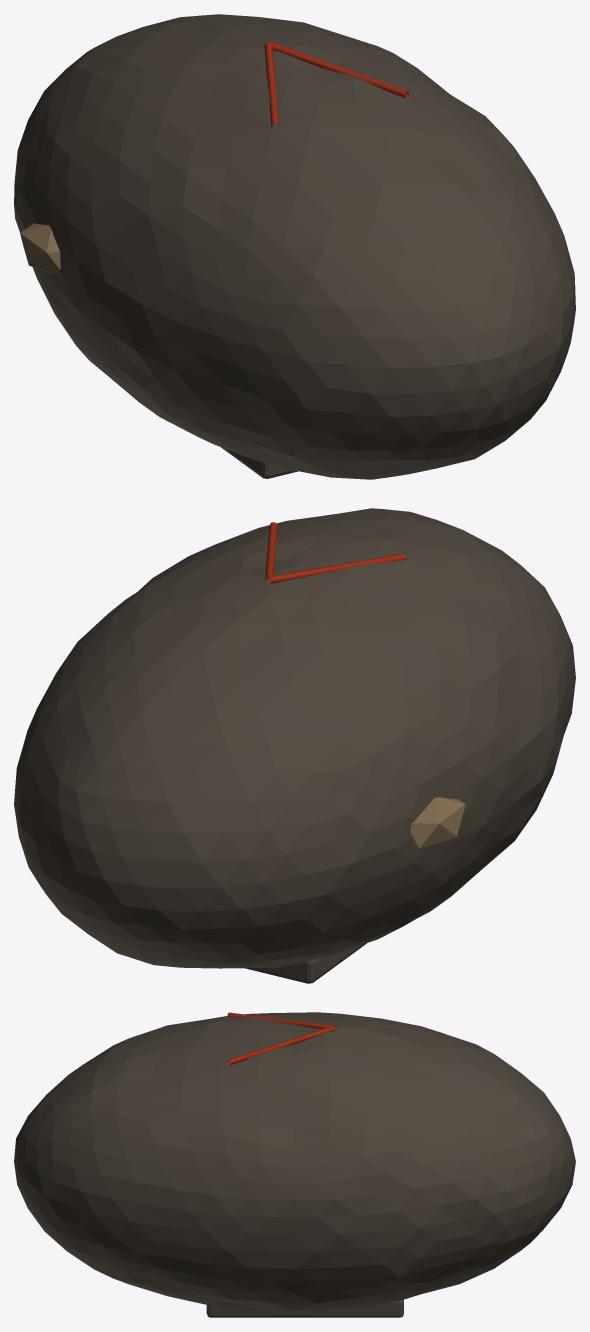
The model's file is sling_stone_LOD0.glb.
The picture shows the model from 3 angles, top to bottom: view 1: azimuth 30°, elevation 25°; view 2: azimuth 150°, elevation 25°; view 3: azimuth 270°, elevation 25°; orthographic projection. The views are drawn at different scales.
Parts seen in each view (by area): view 1: SlingStone_BiconicalRiverCore, SlingStoneEmbeddedChip, SlingStoneLambdaRight, SlingStoneFlatSeat, SlingStoneLambdaLeft; view 2: SlingStone_BiconicalRiverCore, SlingStoneEmbeddedChip, SlingStoneFlatSeat, SlingStoneLambdaLeft; view 3: SlingStone_BiconicalRiverCore, SlingStoneFlatSeat, SlingStoneLambdaRight, SlingStoneLambdaLeft.
Part boxes in pixels (x1,y1,x2,y2): SlingStone_BiconicalRiverCore: [14, 14, 575, 479]; SlingStoneEmbeddedChip: [20, 223, 60, 275]; SlingStoneLambdaRight: [268, 41, 408, 98]; SlingStoneFlatSeat: [221, 447, 297, 478]; SlingStoneLambdaLeft: [264, 42, 279, 127]; SlingStone_BiconicalRiverCore: [14, 508, 575, 968]; SlingStoneEmbeddedChip: [410, 797, 465, 848]; SlingStoneFlatSeat: [245, 943, 366, 983]; SlingStoneLambdaLeft: [267, 553, 406, 583]; SlingStone_BiconicalRiverCore: [14, 1012, 575, 1312]; SlingStoneFlatSeat: [206, 1299, 403, 1317]; SlingStoneLambdaRight: [227, 1026, 335, 1065]; SlingStoneLambdaLeft: [227, 1012, 335, 1029].
Size of the model in its own units: 0.1618 by 0.1348 by 0.2565.
